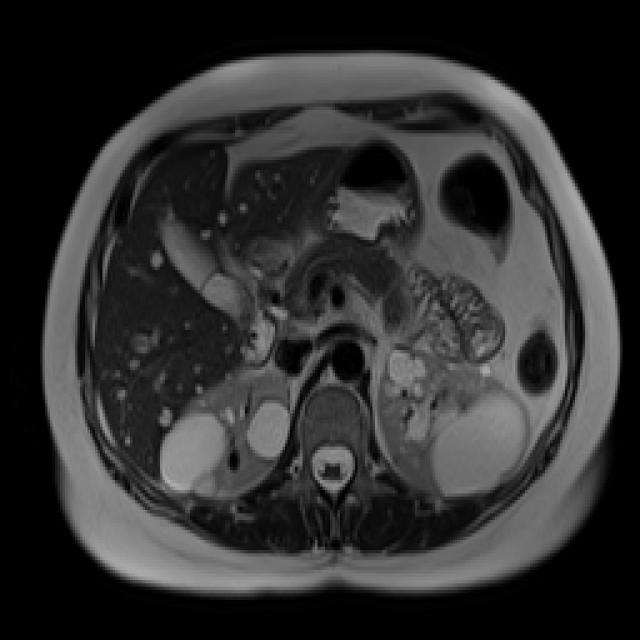sag: (158, 362, 290, 498)
sol: (376, 344, 530, 499)
